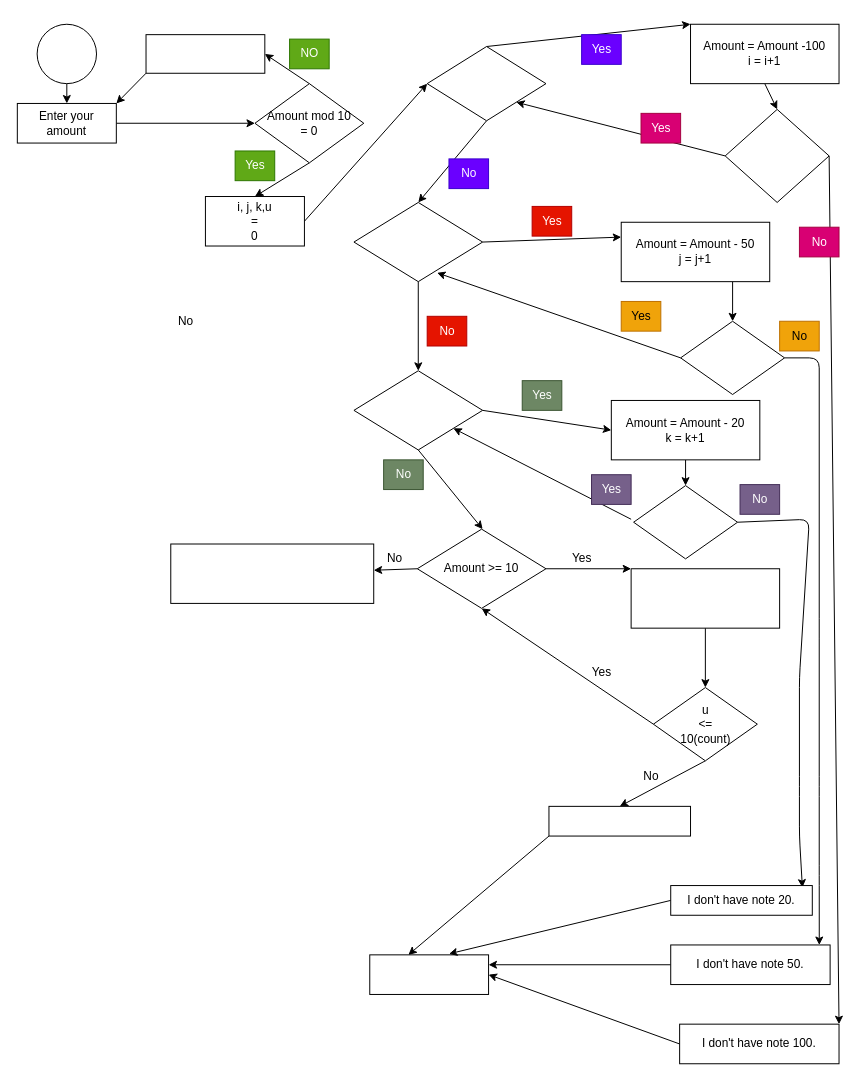
Some shapes in this 864 by 1081 pixel diagram are drawn without their labels. Here are the shapes that lost their labels. From the top down, the box of each, then its label:
(36, 23, 97, 84): Start
(145, 34, 265, 73): change your amount
(426, 46, 546, 121): Amount >=100
(724, 108, 829, 202): i <= 100(count)
(353, 201, 483, 282): 100 > Amount >= 50
(680, 320, 785, 395): j <= 50(count)
(353, 370, 483, 450): 50 > Amount >= 20
(633, 485, 738, 559): k <= 20(count)
(170, 543, 374, 603): Print i Print j Print k Print u
(630, 568, 780, 628): Amount = Amount - 10 u = u+1
(548, 805, 691, 836): I don't have note 10.
(369, 954, 489, 994): Exit
